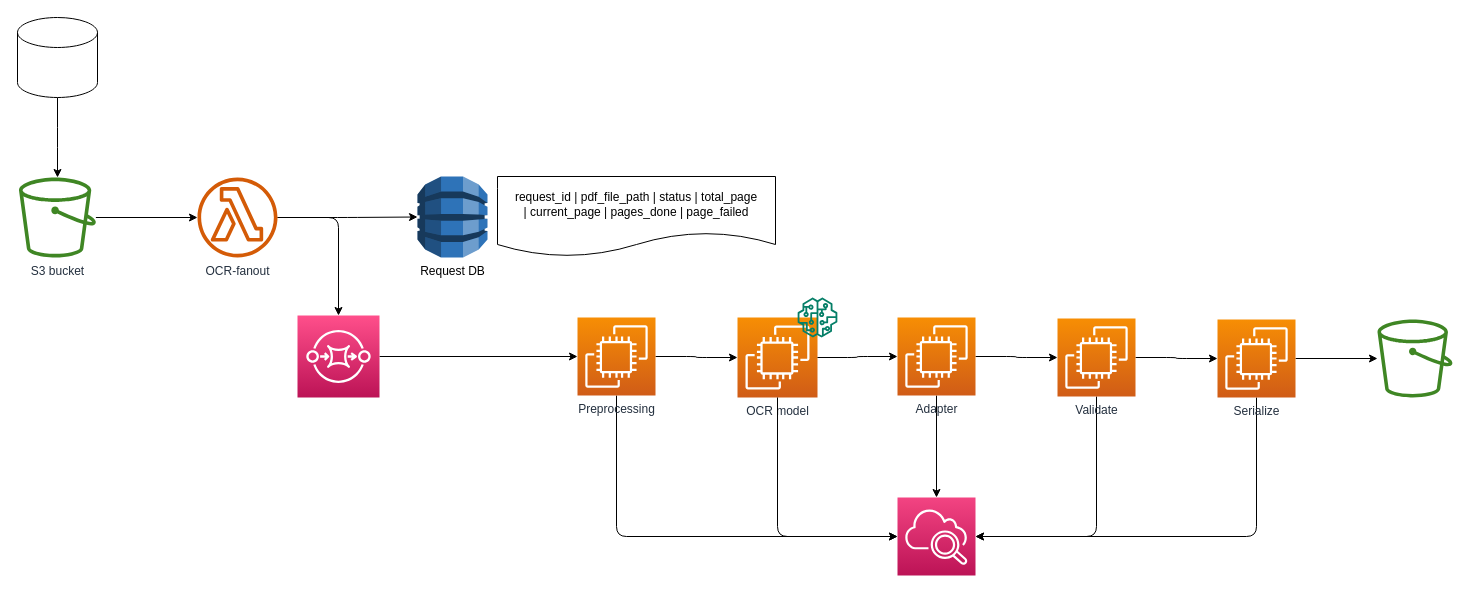
Image size: 1470x614. Some labels were removed from this diagram. Here are the shapes that lost their labels. From the top down, the centre of each, then its label:
pixel 57 57: ECM/MinIO
pixel 338 356: Page Jobs Queues
pixel 1414 358: artifacts
pixel 936 536: Cloud Watch Logs
